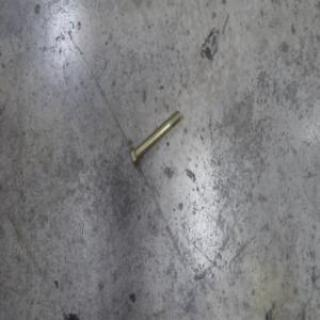Bolttrack_idkeyframe: (128, 106, 181, 167)
